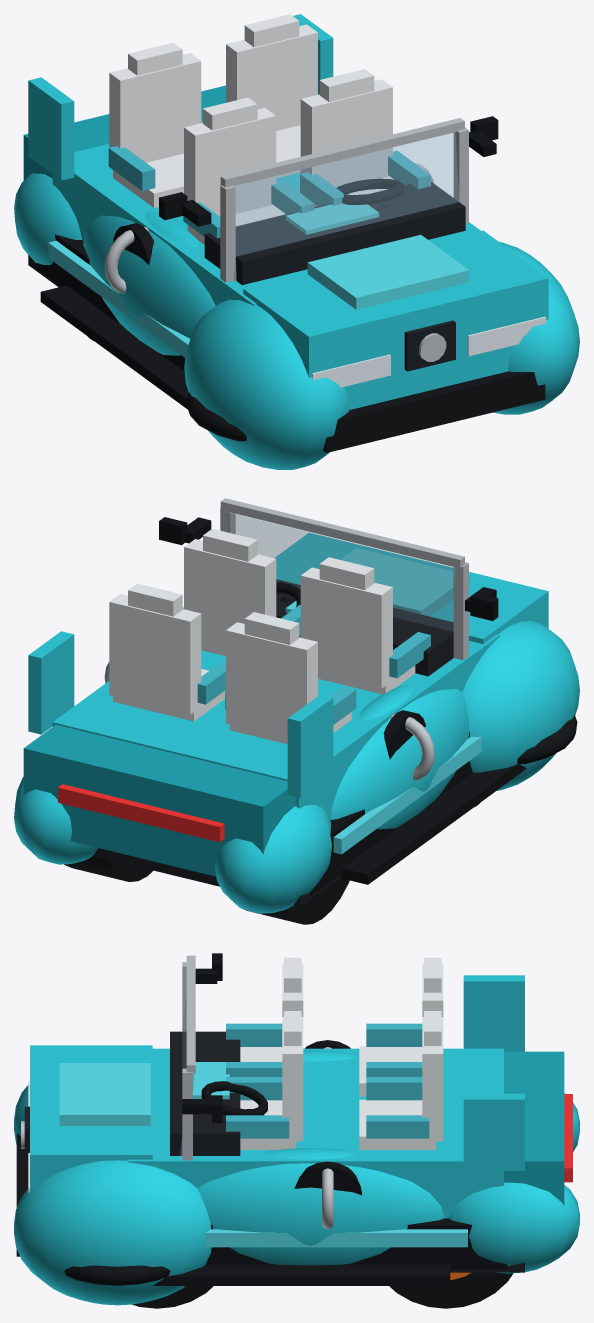
Rendered from evolution.glb.
The picture shows the model from 3 angles, top to bottom: view 1: azimuth 30°, elevation 25°; view 2: azimuth 150°, elevation 25°; view 3: azimuth 270°, elevation 25°; orthographic projection. The views are drawn at different scales.
Parts seen in each view (by area): view 1: cart-evolution; view 2: cart-evolution; view 3: cart-evolution.
Boxes of the visible parts, x1,y1,x2,y2 form: cart-evolution: (14,14,579,469); cart-evolution: (14,498,579,924); cart-evolution: (14,953,579,1308).
Size of the model in its own units: 2.28 by 1.64 by 3.23.
